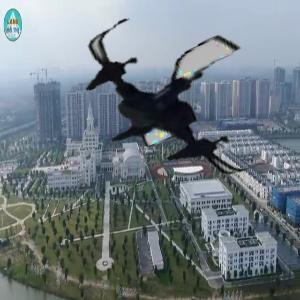drone: (76, 7, 266, 197)
